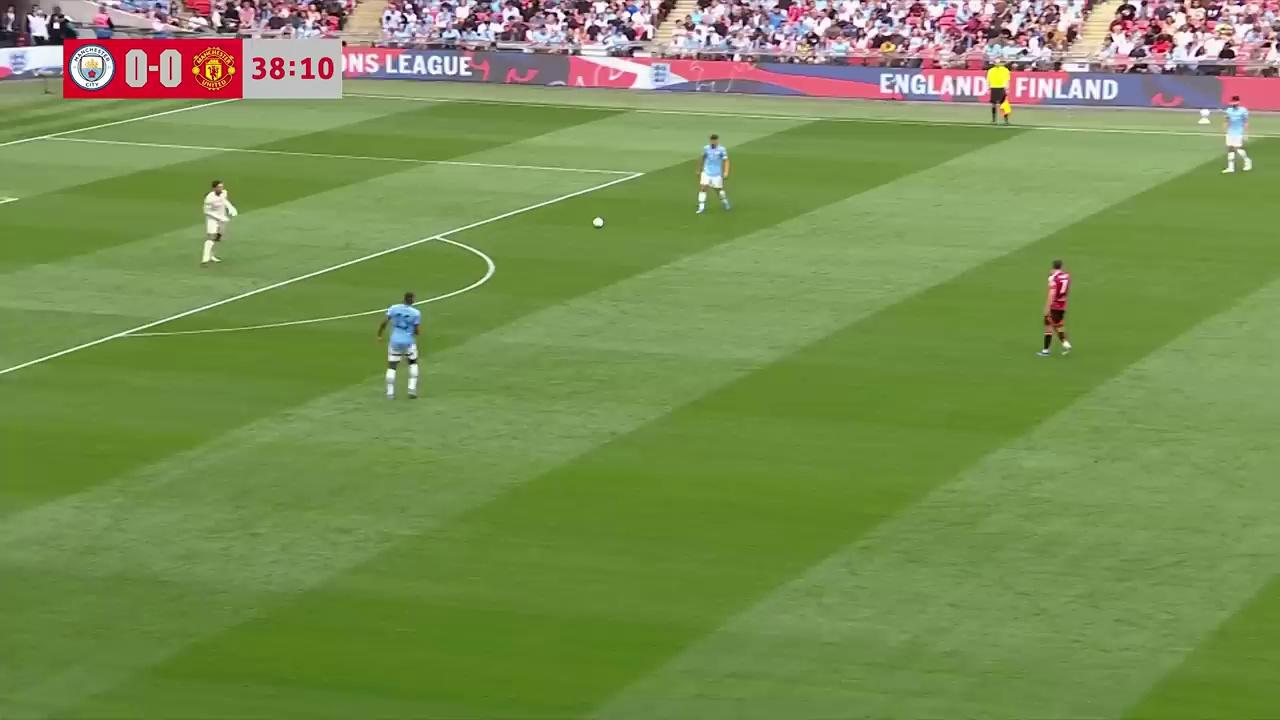ball: (591, 214, 605, 228)
player: (375, 292, 423, 401), (1036, 258, 1071, 357), (201, 179, 237, 264), (695, 137, 731, 214), (1221, 108, 1253, 173)
referee: (990, 68, 1013, 126)
